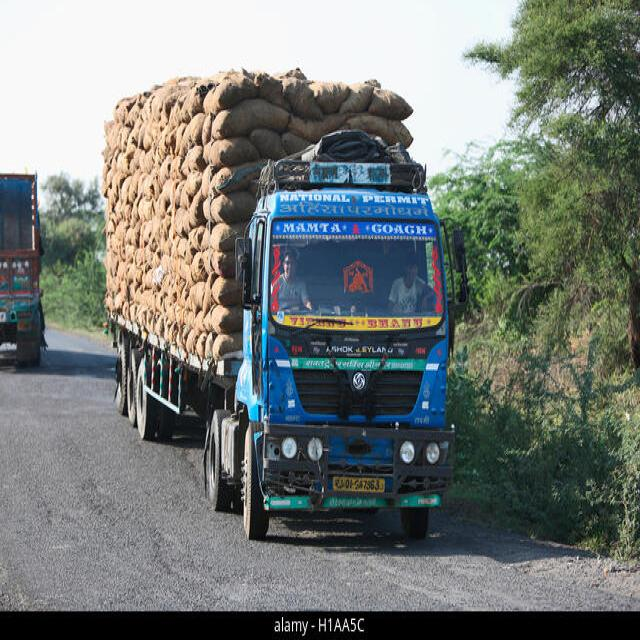normal_truck: (111, 131, 455, 539)
overloaded_truck: (101, 70, 426, 361)
